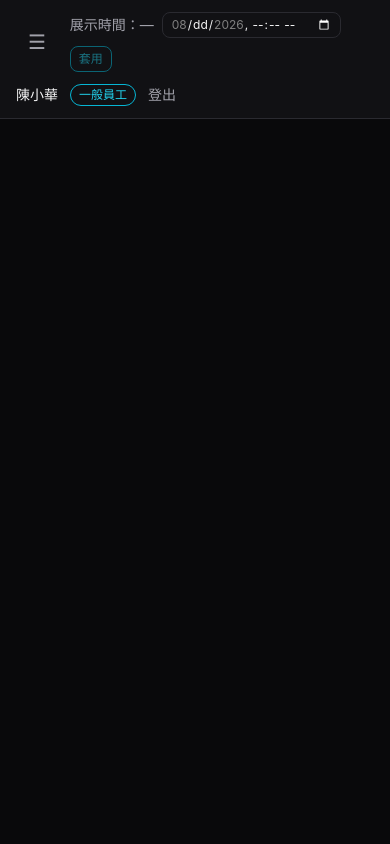
Test: 手機版：漢堡按鈕點擊後開啟抽屜，點遮罩後關閉
The width and height of the screenshot is (390, 844).
Step 1. Click the button named "開啟選單" → (37, 42), box x1=16 y1=20 x2=58 y2=64
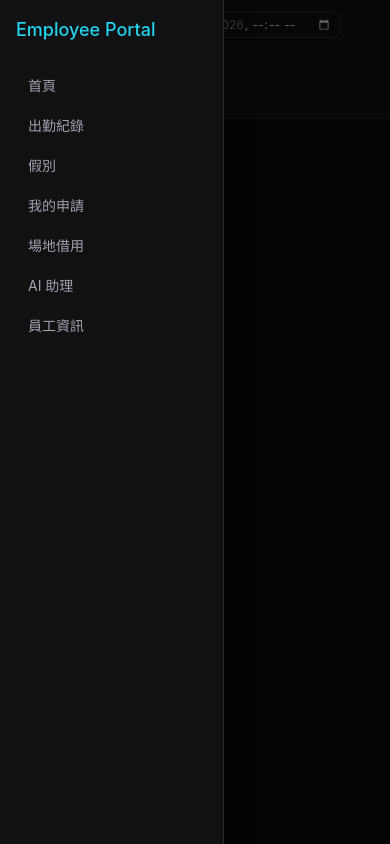
Expected: the element with test id "drawer-backdrop" is shown
Step 2. Click the element with test id "drawer-backdrop" → (367, 422), box x1=0 y1=0 x2=389 y2=843
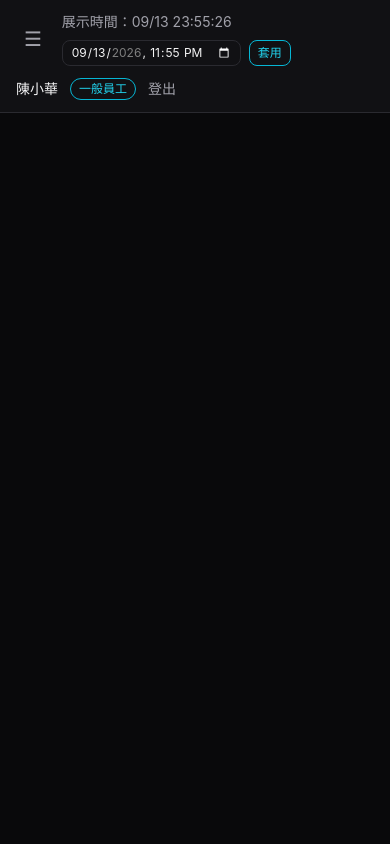
Expected: the element with test id "drawer-backdrop" is gone
